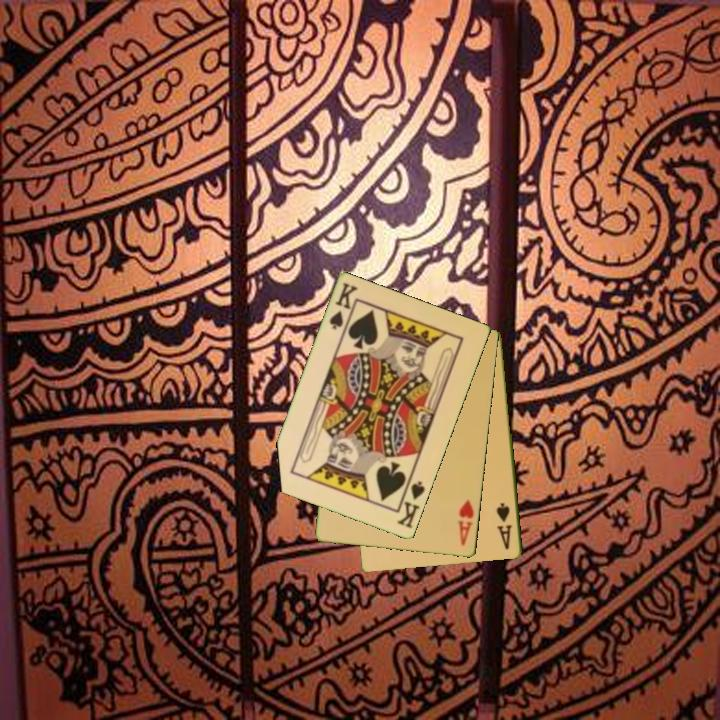Ah: (455, 496, 477, 549)
As: (493, 499, 515, 553)
Ks: (393, 478, 428, 532), (326, 279, 361, 333)
